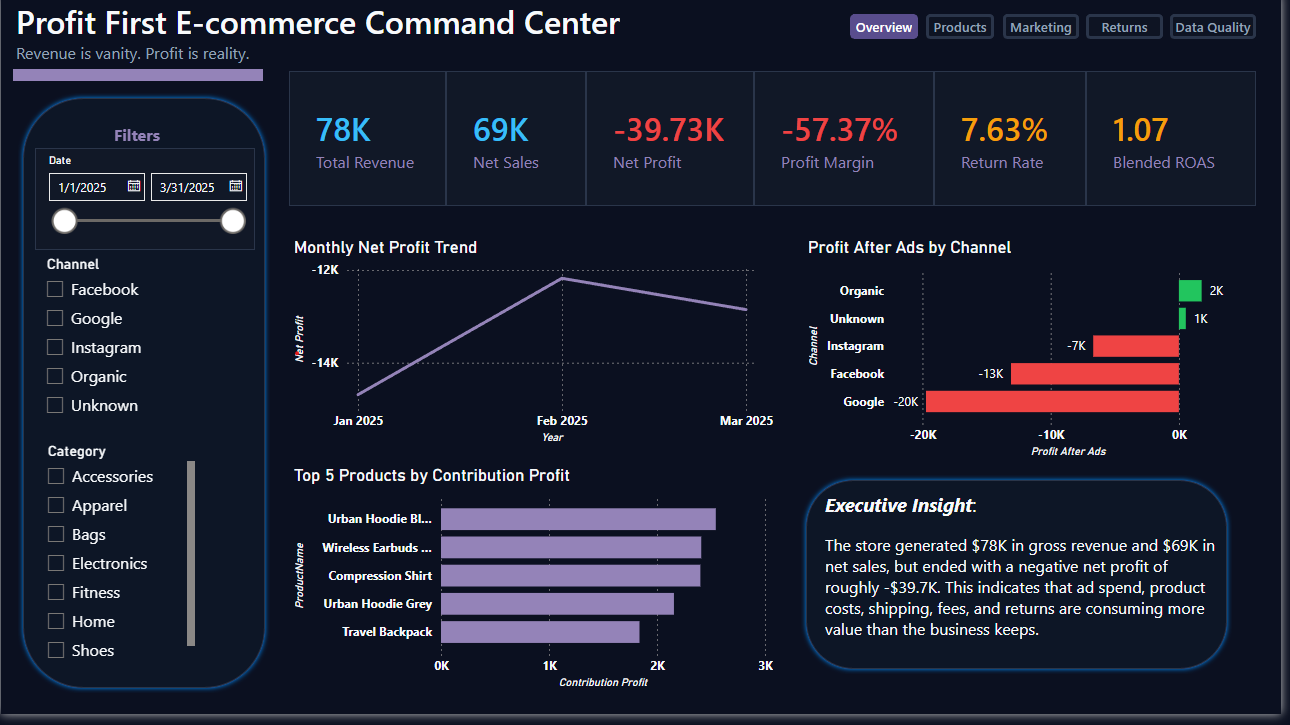

This screenshot's page, from the dashboard's own definition file:
{"tool":"powerbi","page":{"name":"Overview","canvas":[1280,720],"ordinal":0},"visuals":[{"type":"shape","box":[800,481.4,431.4,198.6],"z":0},{"type":"shape","box":[11.7,75,250,12],"z":1000},{"type":"textbox","box":[10,0,616.2,115],"z":2000},{"type":"cardVisual","fields":{"Data":["DAX.Total Revenue"]},"box":[288.2,77.4,156.7,135],"z":3000},{"type":"cardVisual","fields":{"Data":["DAX.Net Sales"]},"box":[444.9,77.4,140,135],"z":4000},{"type":"cardVisual","fields":{"Data":["DAX.Net Profit"]},"box":[584.9,77.4,168.3,135],"z":5000},{"type":"cardVisual","fields":{"Data":["DAX.Profit Margin"]},"box":[753.2,77.4,180,135],"z":6000},{"type":"cardVisual","fields":{"Data":["DAX.Return Rate"]},"box":[933.2,77.4,151.7,135],"z":7000},{"type":"cardVisual","fields":{"Data":["DAX.Blended ROAS"]},"box":[1085.4,77.4,170,135],"z":8000},{"type":"shape","box":[16.5,99.3,252.9,600],"z":9000},{"type":"slicer","fields":{"Values":["Dim_date.Date"]},"box":[34.1,153.5,220.2,102.4],"z":10000},{"type":"slicer","fields":{"Values":["Dim_Channel.Channel"]},"box":[33.4,257.3,166,174],"z":11000},{"type":"slicer","fields":{"Values":["Dim_product.Category"]},"box":[33.5,443.7,165.7,225.7],"z":12000},{"type":"lineChart","title":"Monthly Net Profit Trend","fields":{"Category":["Dim_date.Date.Variation.Date Hierarchy.Year","Dim_date.Date.Variation.Date Hierarchy.Quarter","Dim_date.Date.Variation.Date Hierarchy.Month","Dim_date.Date.Variation.Date Hierarchy.Day"],"Y":["DAX.Net Profit"]},"box":[288.5,243,488.5,210.9],"z":13000},{"type":"clusteredBarChart","title":"Profit After Ads by Channel","fields":{"Y":["DAX.Profit After Ads"],"Category":["Dim_Channel.Channel"]},"box":[801.8,243,452.9,224.9],"z":14000},{"type":"textbox","box":[818.9,493.2,409.4,198.5],"z":15000},{"type":"clusteredBarChart","title":"Top 5 Products by Contribution Profit","fields":{"Category":["Dim_product.ProductName"],"Y":["DAX.Contribution Profit"]},"box":[288.5,471.5,488.5,228],"z":16000},{"type":"textbox","box":[108.2,125.1,69.2,35],"z":17000},{"type":"actionButton","box":[849.2,20,67.7,25.4],"z":18000},{"type":"actionButton","box":[924.6,20,68.5,25.4],"z":19000},{"type":"actionButton","box":[1001.5,20,76.9,25.4],"z":20000},{"type":"actionButton","box":[1085,20,77.1,25],"z":21000},{"type":"actionButton","box":[1168.6,20,86.4,25],"z":22000}]}

Visuals, with their boxes in screenshot pixels (x1, y1, x2, y2), scaled from the page's 1280x720 canvas onto the 1290x725 screenshot:
shape: (806, 485, 1241, 685)
shape: (12, 76, 264, 88)
textbox: (10, 0, 631, 116)
cardVisual - DAX.Total Revenue: (290, 78, 448, 214)
cardVisual - DAX.Net Sales: (448, 78, 589, 214)
cardVisual - DAX.Net Profit: (589, 78, 759, 214)
cardVisual - DAX.Profit Margin: (759, 78, 940, 214)
cardVisual - DAX.Return Rate: (940, 78, 1093, 214)
cardVisual - DAX.Blended ROAS: (1094, 78, 1265, 214)
shape: (17, 100, 272, 704)
slicer - Dim_date.Date: (34, 155, 256, 258)
slicer - Dim_Channel.Channel: (34, 259, 201, 434)
slicer - Dim_product.Category: (34, 447, 201, 674)
"Monthly Net Profit Trend" lineChart: (291, 245, 783, 457)
"Profit After Ads by Channel" clusteredBarChart: (808, 245, 1265, 471)
textbox: (825, 497, 1238, 697)
"Top 5 Products by Contribution Profit" clusteredBarChart: (291, 475, 783, 704)
textbox: (109, 126, 179, 161)
actionButton: (856, 20, 924, 46)
actionButton: (932, 20, 1001, 46)
actionButton: (1009, 20, 1087, 46)
actionButton: (1093, 20, 1171, 45)
actionButton: (1178, 20, 1265, 45)
